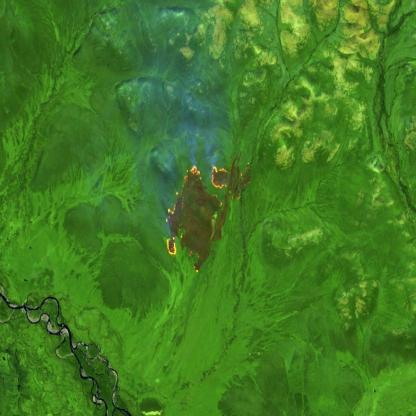fire: (164, 160, 231, 275)
